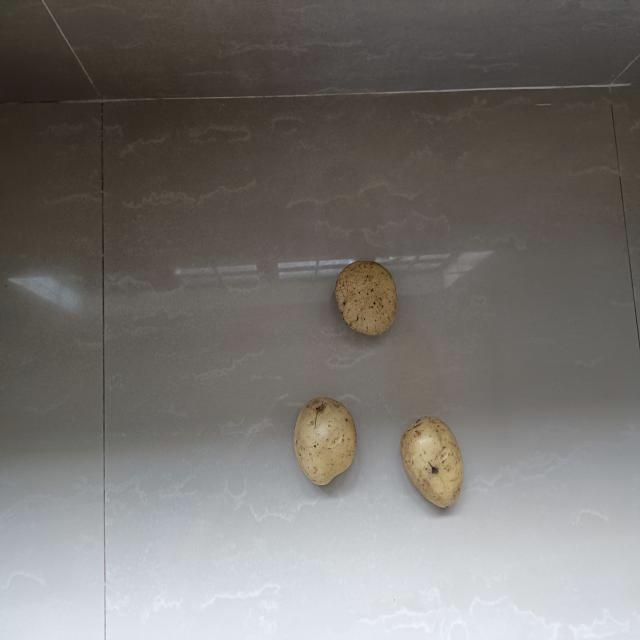potato: (400, 410, 467, 515), (291, 394, 358, 490), (332, 255, 402, 341)
